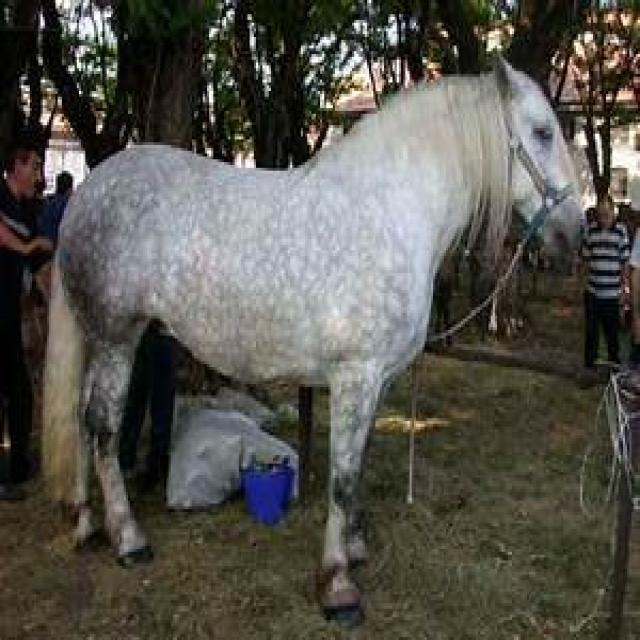animal: (58, 60, 590, 628)
